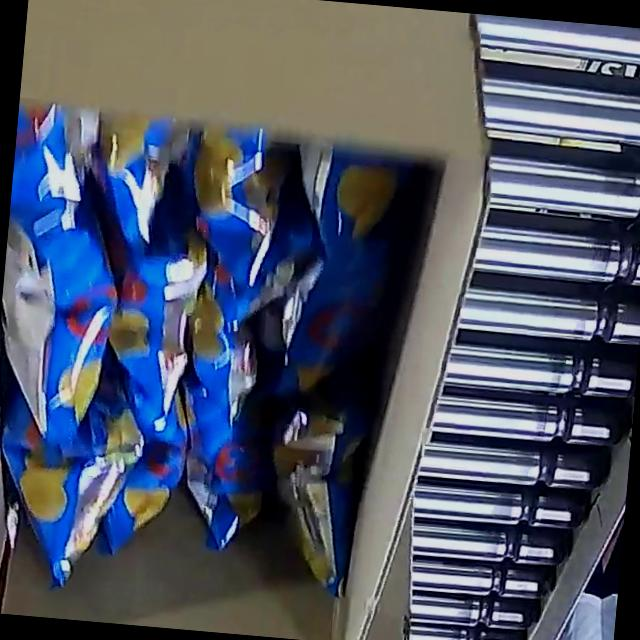paprika: (0, 99, 426, 620)
